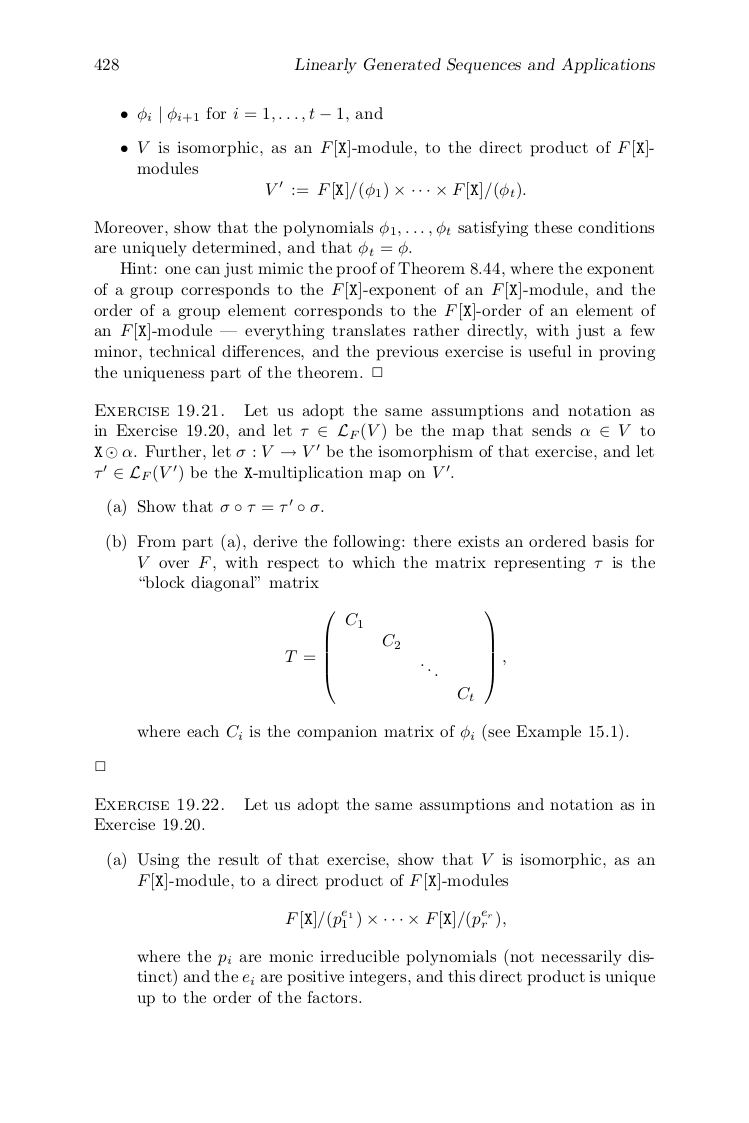formula: (285, 610, 505, 704), (266, 180, 525, 200), (285, 909, 505, 929)
